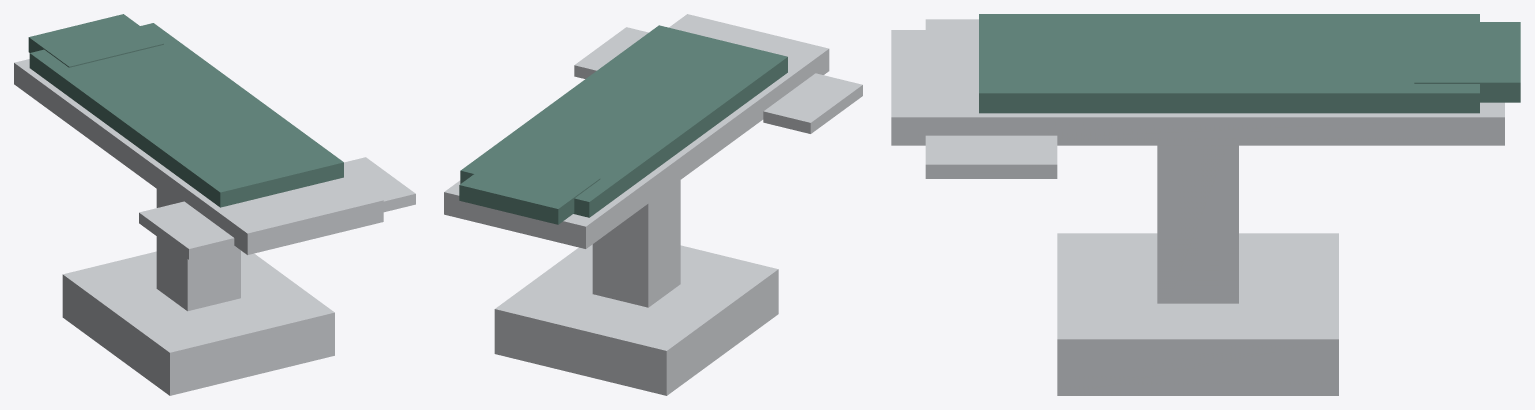
File: mov_8a7da29489.gltf
The picture shows the model from 3 angles, left to right: view 1: azimuth 30°, elevation 25°; view 2: azimuth 150°, elevation 25°; view 3: azimuth 270°, elevation 25°; orthographic projection. The views are drawn at different scales.
Visible parts, largest first — view 1: mov_8a7da29489; view 2: mov_8a7da29489; view 3: mov_8a7da29489.
Boxes of the visible parts, left/top/right/bottom form: mov_8a7da29489: left=14, top=14, right=415, bottom=395; mov_8a7da29489: left=444, top=14, right=862, bottom=395; mov_8a7da29489: left=891, top=14, right=1520, bottom=395.
Size of the model in its own units: 1.1 by 1.02 by 2.01.
